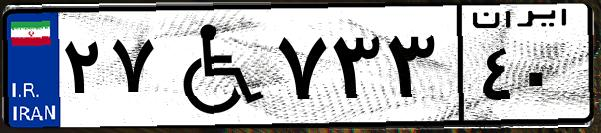0: (525, 38, 570, 115)
2: (57, 26, 110, 100)
3: (385, 28, 445, 110), (330, 28, 385, 110)
4: (475, 38, 525, 113)
7: (270, 28, 330, 110), (110, 28, 158, 98)
ژ (معلولین و جانبازان): (158, 12, 270, 120)
